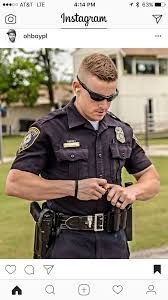gun: (20, 198, 57, 253)
uniform: (21, 107, 135, 255)
